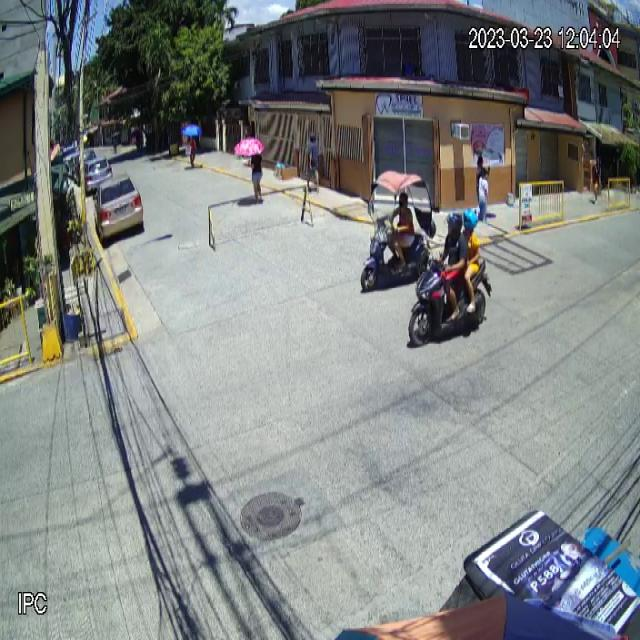Car: (92, 173, 144, 243)
Motorcycle: (407, 251, 493, 349)
